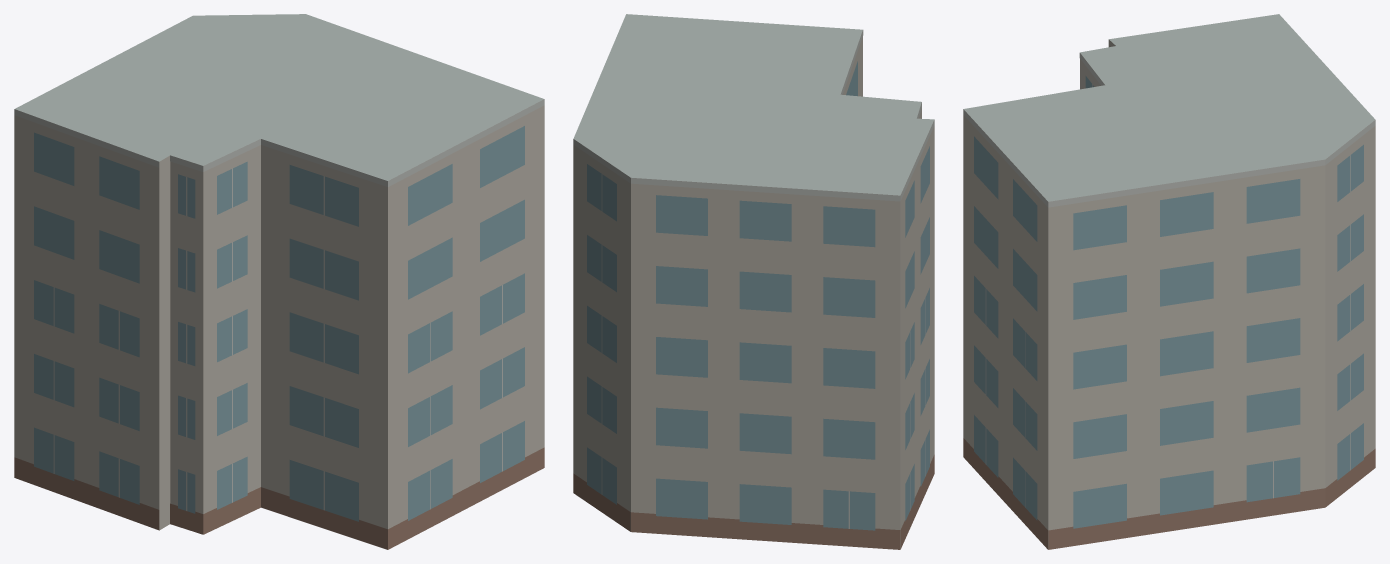
The model's file is survey-upis-32853653.glb.
3 views of the same model, side by side, from view 1: azimuth 30°, elevation 25°; view 2: azimuth 150°, elevation 25°; view 3: azimuth 270°, elevation 25° (orthographic). The views are drawn at different scales.
Visible parts, largest first — view 1: survey-upis-32853653.tmp; view 2: survey-upis-32853653.tmp; view 3: survey-upis-32853653.tmp.
Part boxes in pixels (<box>): survey-upis-32853653.tmp: <box>14,14,544,549</box>; survey-upis-32853653.tmp: <box>573,14,934,549</box>; survey-upis-32853653.tmp: <box>963,14,1375,549</box>.
Size of the model in its own units: 16.96 by 14.65 by 15.73.
